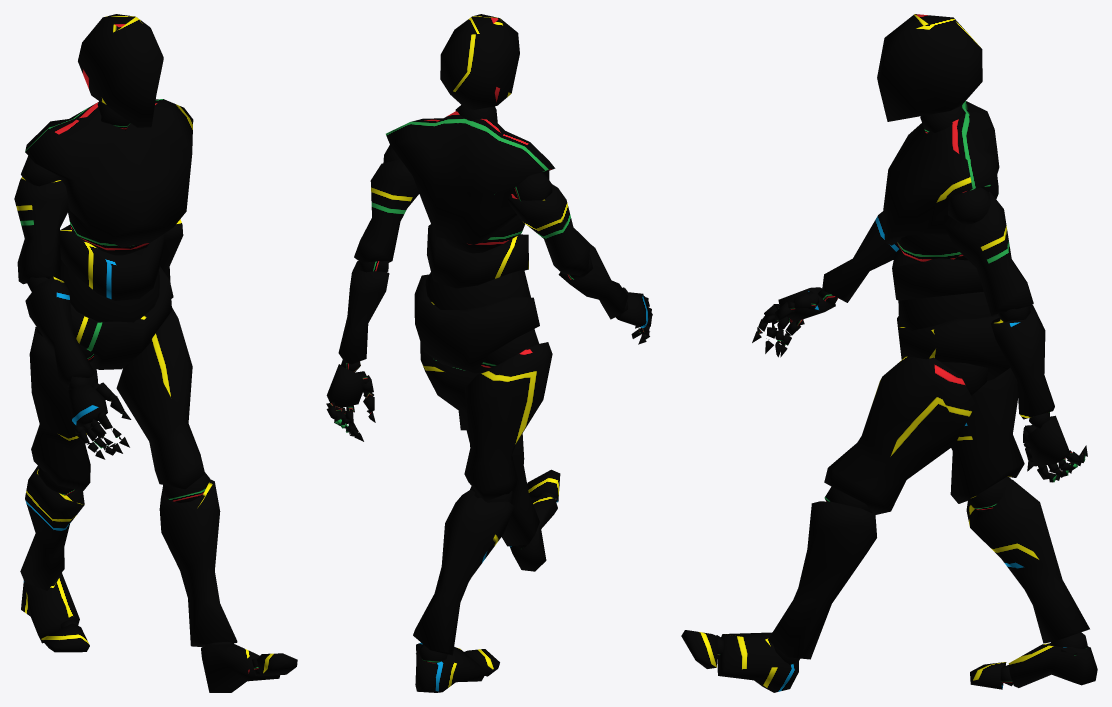
Rendered from y-bot-origin_000018.obj.
The picture shows the model from 3 angles, left to right: view 1: azimuth 30°, elevation 25°; view 2: azimuth 150°, elevation 25°; view 3: azimuth 270°, elevation 25°; orthographic projection. The views are drawn at different scales.
Parts seen in each view (by area): view 1: Alpha_Surface_Alpha_SurfaceMesh, Alpha_Joints_Alpha_JointsMesh; view 2: Alpha_Surface_Alpha_SurfaceMesh, Alpha_Joints_Alpha_JointsMesh; view 3: Alpha_Surface_Alpha_SurfaceMesh, Alpha_Joints_Alpha_JointsMesh.
Boxes of the visible parts, x1,y1,x2,y2 form: Alpha_Surface_Alpha_SurfaceMesh: (14, 14, 297, 692); Alpha_Joints_Alpha_JointsMesh: (21, 101, 260, 675); Alpha_Surface_Alpha_SurfaceMesh: (326, 14, 652, 692); Alpha_Joints_Alpha_JointsMesh: (326, 105, 651, 663); Alpha_Surface_Alpha_SurfaceMesh: (681, 14, 1097, 692); Alpha_Joints_Alpha_JointsMesh: (716, 106, 1087, 686).
Bounding box in the file's own units: 0.5939 × 1.75 × 0.977.
